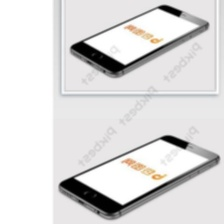phone: (54, 131, 221, 221), (66, 1, 211, 79)
